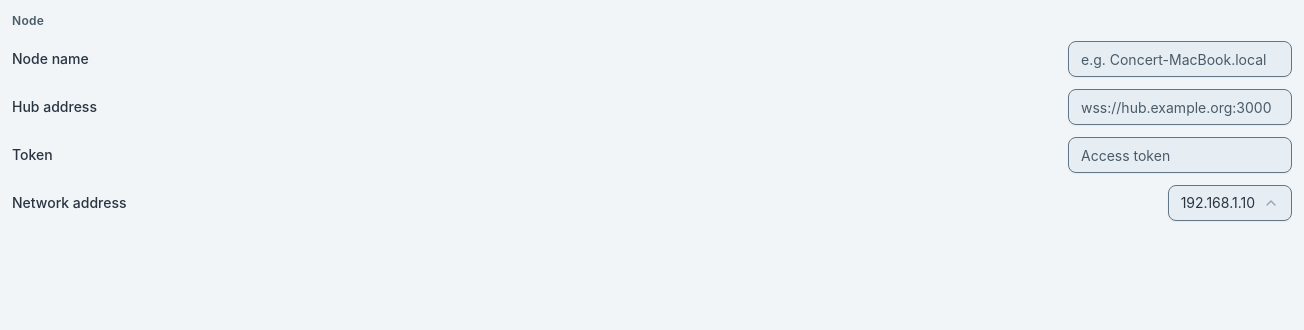
NodeSection (#58) › a LAN address pick also reveals the note
Click the dropdown named "network address": (1230, 203) [1168,185,1292,221]
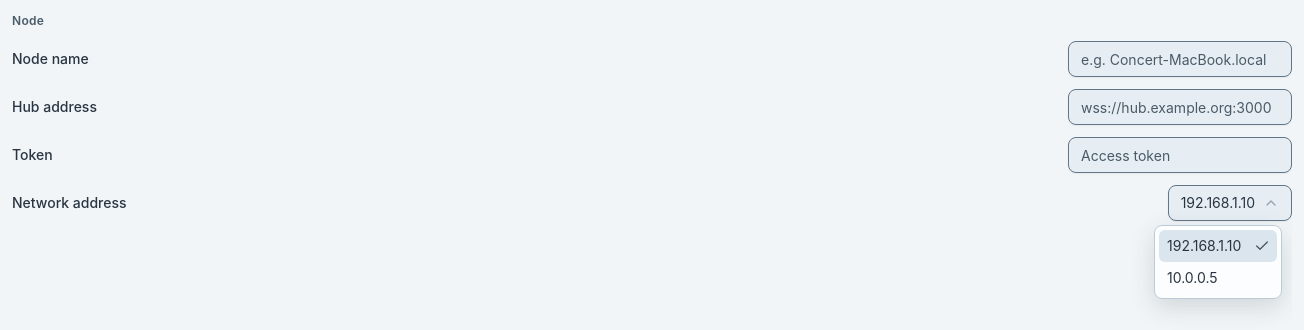
Click the option "10.0.0.5": (1192, 278) [1167,269,1218,286]
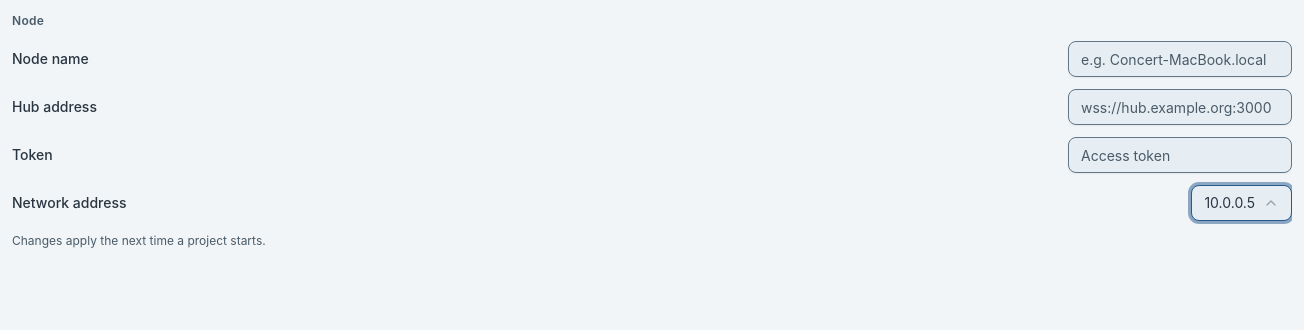
expect the text "Changes apply the next time a project starts." is shown: met, box [12,233,266,248]
